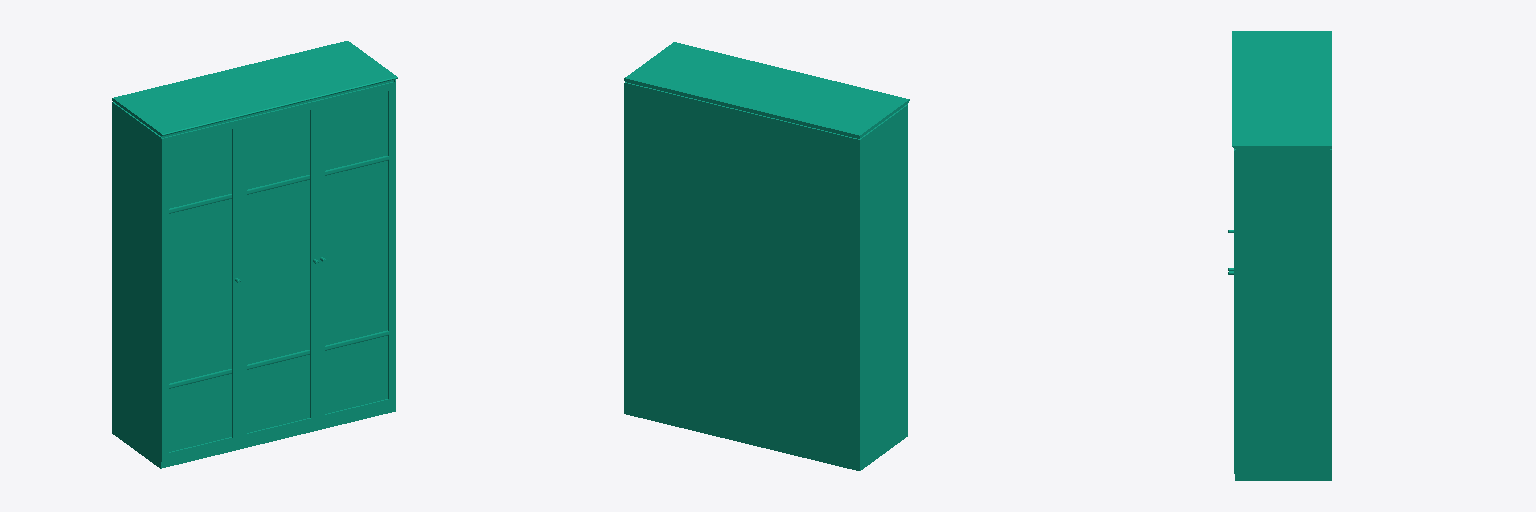
Rendered from wardrobe.obj.
3 renders of one model, left to right at view 1: azimuth 30°, elevation 25°; view 2: azimuth 150°, elevation 25°; view 3: azimuth 270°, elevation 25°, orthographic.
Parts seen in each view (by area): view 1: Rectangle13; view 2: Rectangle13; view 3: Rectangle13.
Part boxes in pixels (bbox=[...]): Rectangle13: bbox=[112, 41, 397, 468]; Rectangle13: bbox=[624, 42, 909, 470]; Rectangle13: bbox=[1228, 31, 1331, 480].
Size of the model in its own units: 66.14 by 90.16 by 25.11.